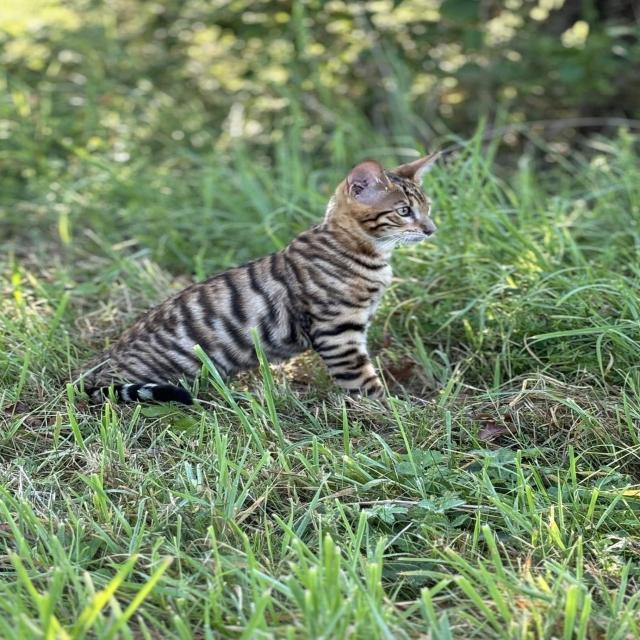Toyger: (68, 149, 449, 414)
